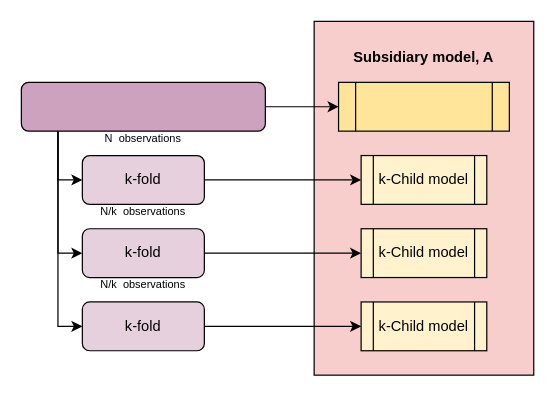
The diagram is 555 pixels wide and 397 high, and some of its shapes have lost their labels. Each missing label, with the centre of its shape:
"Parent model" belongs at (x=423, y=106).
"Training data" belongs at (x=142, y=106).
